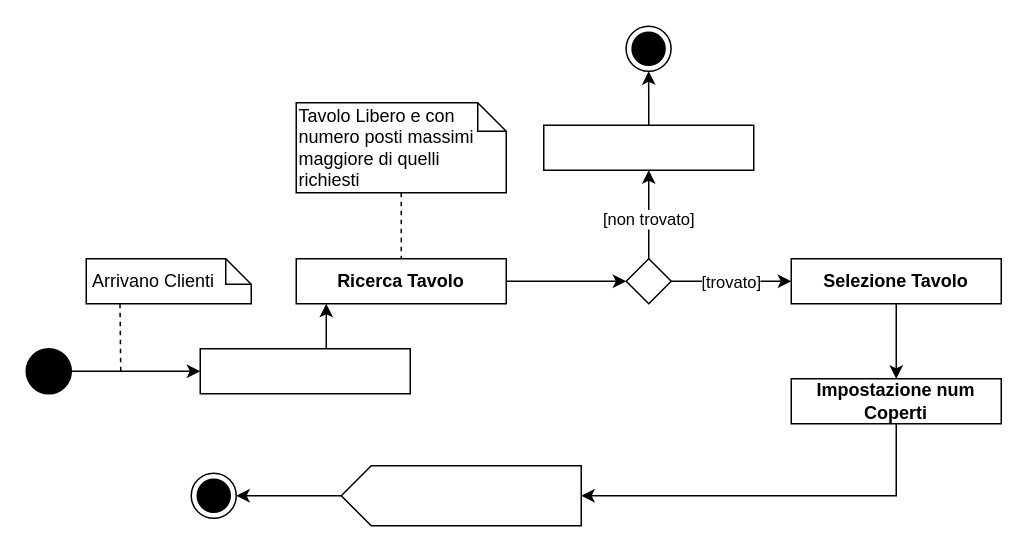
This 1028x552 diagram has some shape labels left out. Here are the shapes that lost their labels. From the top down, the centre of each, then its label:
the point at 648,147: Manda via Clienti
the point at 304,370: Richiesta Posti
the point at 460,495: Aggiorna Stato Tavolo
